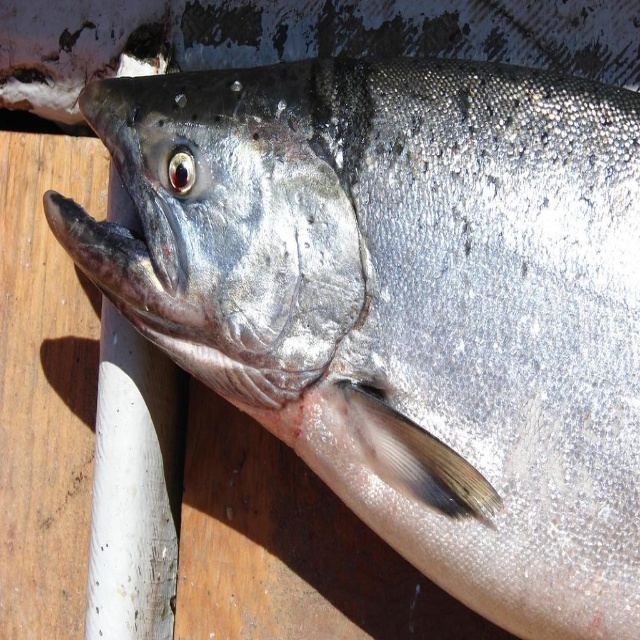Fish: (61, 162, 553, 626)
